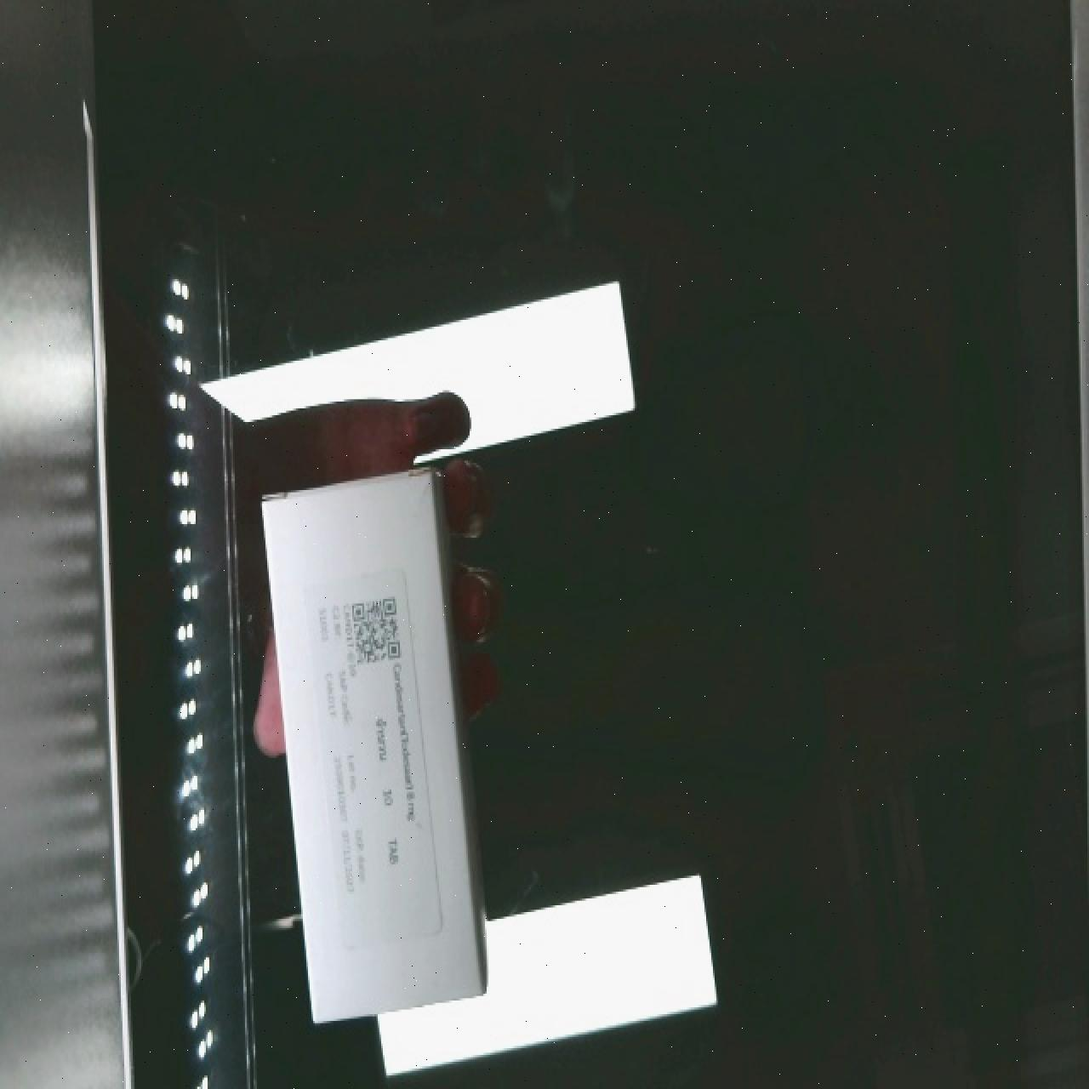qr_code: (332, 574, 415, 688)
